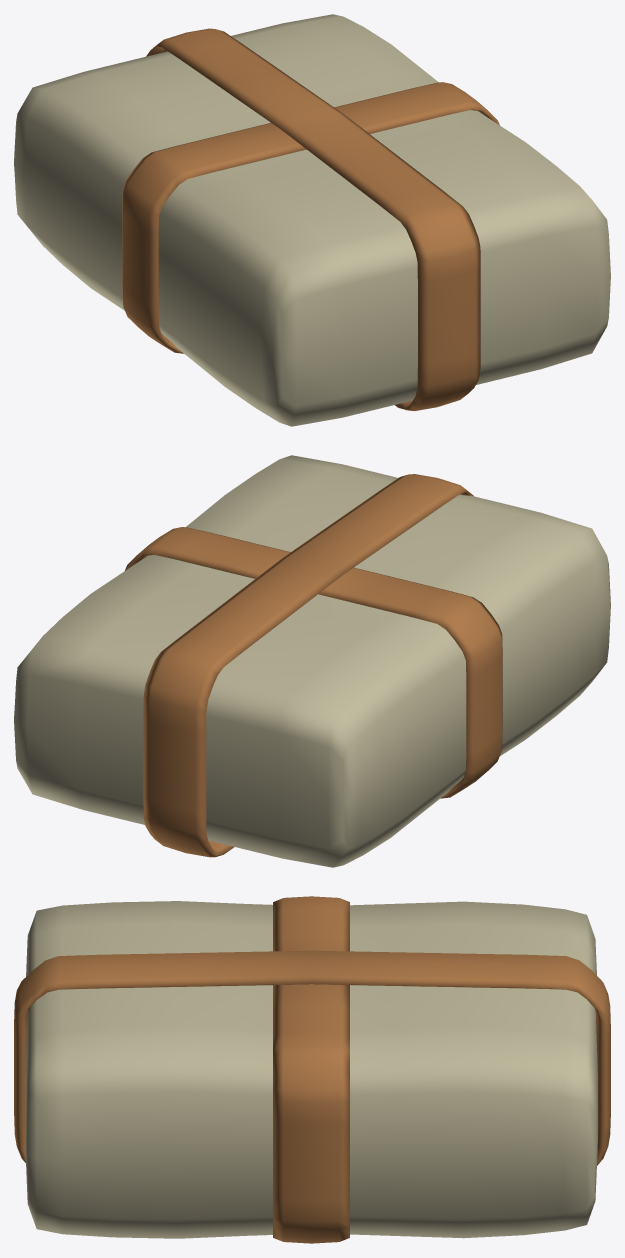
Rendered from Drug.fbx.
3 renders of one model, top to bottom at view 1: azimuth 30°, elevation 25°; view 2: azimuth 150°, elevation 25°; view 3: azimuth 270°, elevation 25°, orthographic. The views are drawn at different scales.
Visible parts, largest first — view 1: Cube; view 2: Cube; view 3: Cube.
Boxes of the visible parts, x1,y1,x2,y2 form: Cube: [14, 14, 610, 426]; Cube: [14, 455, 610, 867]; Cube: [14, 896, 610, 1243].
Bounding box in the file's own units: 1.67 × 0.9238 × 2.29.
